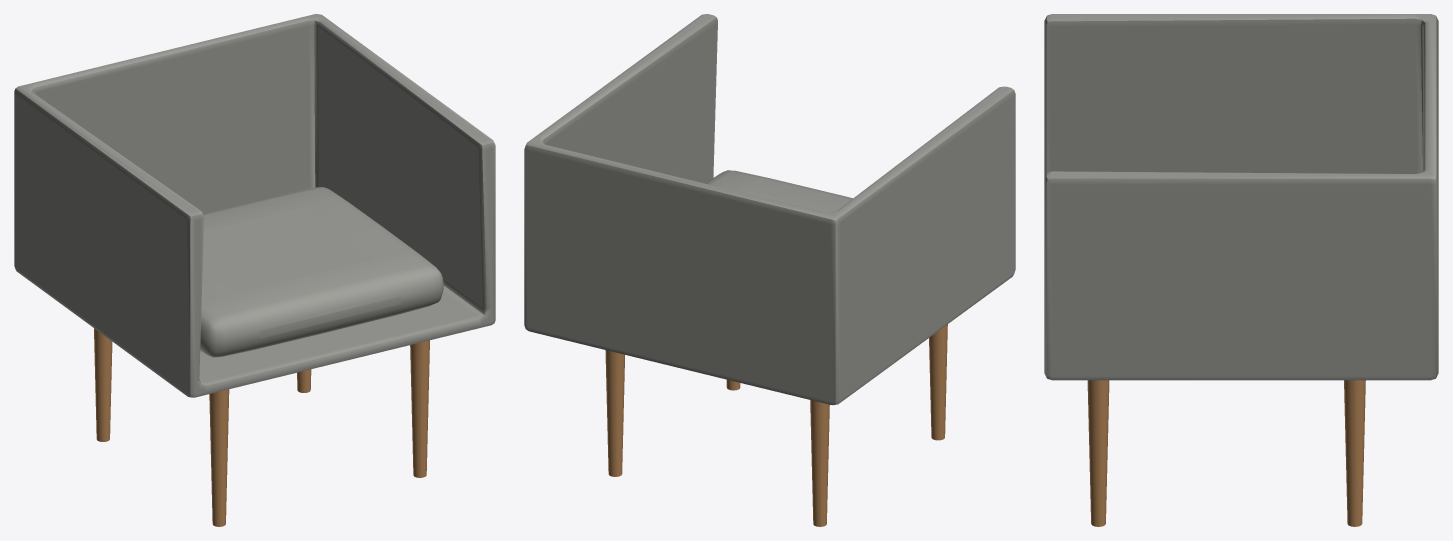
The model's file is lounge-chair.glb.
3 views of the same model, side by side, from view 1: azimuth 30°, elevation 25°; view 2: azimuth 150°, elevation 25°; view 3: azimuth 270°, elevation 25° (orthographic). The views are drawn at different scales.
Visible parts, largest first — view 1: lounge-chair; view 2: lounge-chair; view 3: lounge-chair.
Boxes of the visible parts, x1,y1,x2,y2 form: lounge-chair: (14, 14, 495, 526); lounge-chair: (524, 14, 1015, 526); lounge-chair: (1044, 14, 1438, 526).
Size of the model in its own units: 0.8 by 0.84 by 0.8.
